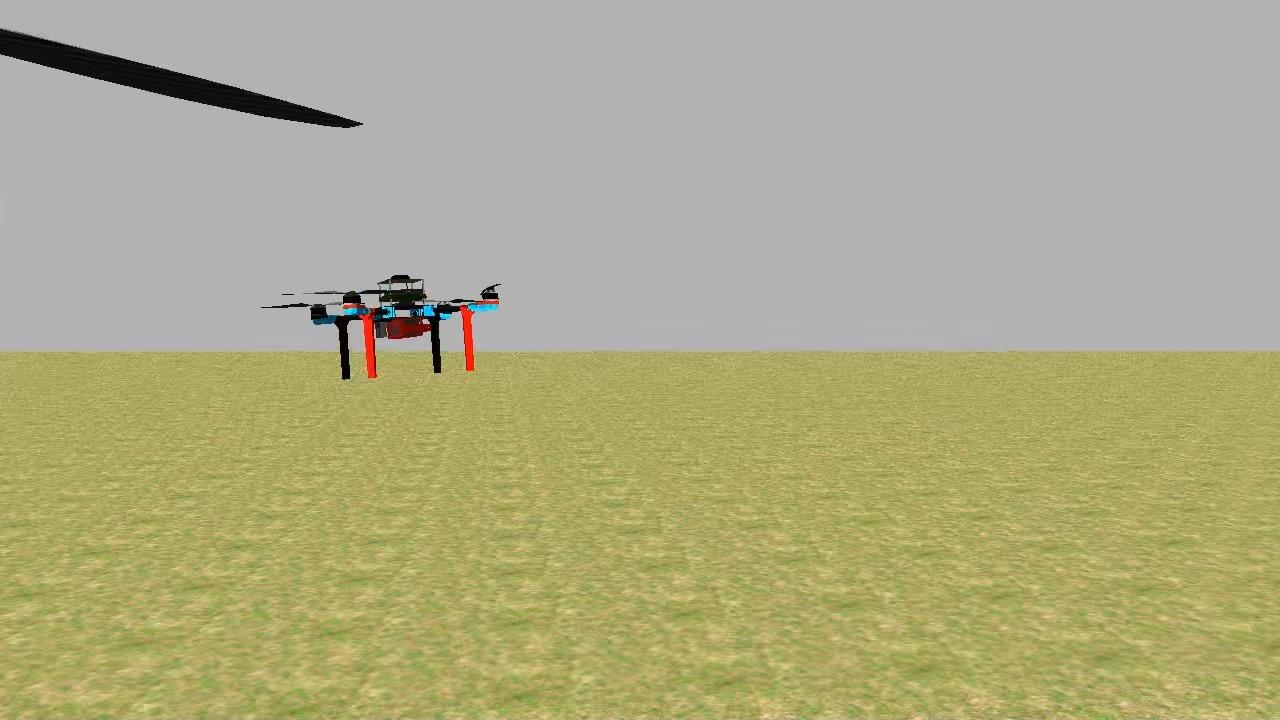UAV: (306, 268, 506, 386)
